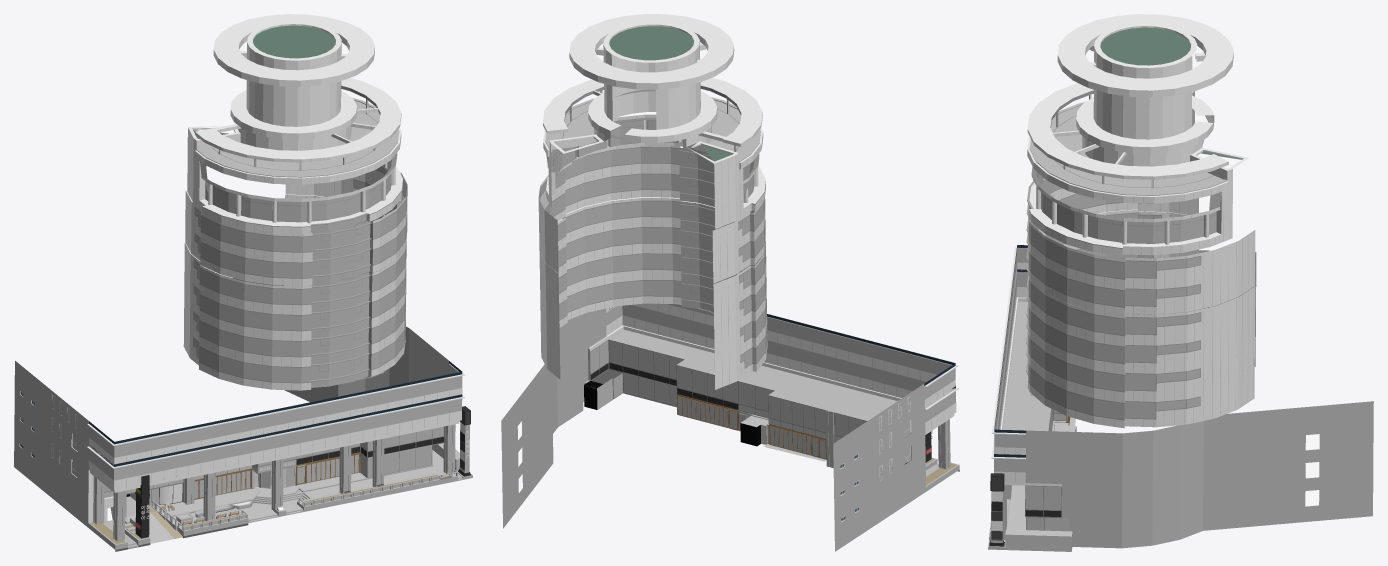
The model's file is Low아쿠아펠리스.fbx.
3 renders of one model, left to right at view 1: azimuth 30°, elevation 25°; view 2: azimuth 150°, elevation 25°; view 3: azimuth 270°, elevation 25°, orthographic. The views are drawn at different scales.
Parts seen in each view (by area): view 1: Group_71818, Group_72256, 단층_아쿠아_1, Group_72300, Group_71693, Group_72294, 단층_아쿠아_2_2, 단층_아쿠아_2_1, 단층_아쿠아_2_5, 단층_아쿠아_2_7, 단층_아쿠아_2, 단층_아쿠아_2_6 (+32 smaller); view 2: Group_71818, Group_72256, 단층_아쿠아_1, Group_71693, Group_72300, 단층_아쿠아_2_2, 단층_아쿠아_2_1, Group_72294, 단층_아쿠아_2_5, 단층_아쿠아_2_7, 단층_아쿠아_2_6, 단층_아쿠아_2 (+19 smaller); view 3: Group_71818, Group_72256, 단층_아쿠아_1, Group_72300, 단층_아쿠아_2_2, Group_72294, 단층_아쿠아_2_5, 단층_아쿠아_2_6, 단층_아쿠아_2, 단층_아쿠아_2_1, 단층_아쿠아_2_7, Group_71693 (+23 smaller).
Part boxes in pixels (bbox=[...]): Group_71818: bbox=[14, 349, 472, 551]; Group_72256: bbox=[187, 21, 402, 234]; 단층_아쿠아_1: bbox=[14, 278, 464, 466]; Group_72300: bbox=[213, 14, 374, 86]; Group_71693: bbox=[104, 426, 443, 506]; Group_72294: bbox=[195, 78, 401, 162]; 단층_아쿠아_2_2: bbox=[185, 177, 401, 285]; 단층_아쿠아_2_1: bbox=[185, 166, 401, 259]; 단층_아쿠아_2_5: bbox=[184, 195, 384, 312]; 단층_아쿠아_2_7: bbox=[184, 271, 379, 364]; 단층_아쿠아_2: bbox=[183, 279, 378, 390]; 단층_아쿠아_2_6: bbox=[184, 232, 379, 338]; Group_71818: bbox=[501, 305, 959, 551]; Group_72256: bbox=[543, 22, 765, 228]; 단층_아쿠아_1: bbox=[501, 303, 958, 468]; Group_71693: bbox=[584, 339, 911, 461]; Group_72300: bbox=[569, 14, 734, 89]; 단층_아쿠아_2_2: bbox=[539, 171, 754, 283]; 단층_아쿠아_2_1: bbox=[538, 145, 754, 256]; Group_72294: bbox=[543, 78, 762, 146]; 단층_아쿠아_2_5: bbox=[539, 198, 755, 310]; 단층_아쿠아_2_7: bbox=[540, 251, 756, 363]; 단층_아쿠아_2_6: bbox=[540, 224, 755, 336]; 단층_아쿠아_2: bbox=[540, 277, 756, 389]; Group_71818: bbox=[988, 269, 1373, 551]; Group_72256: bbox=[1027, 23, 1248, 256]; 단층_아쿠아_1: bbox=[991, 245, 1373, 461]; Group_72300: bbox=[1057, 14, 1233, 97]; 단층_아쿠아_2_2: bbox=[1026, 198, 1254, 315]; Group_72294: bbox=[1027, 83, 1228, 179]; 단층_아쿠아_2_5: bbox=[1026, 211, 1255, 343]; 단층_아쿠아_2_6: bbox=[1026, 249, 1254, 371]; 단층_아쿠아_2: bbox=[1026, 309, 1254, 427]; 단층_아쿠아_2_1: bbox=[1026, 203, 1255, 286]; 단층_아쿠아_2_7: bbox=[1026, 317, 1254, 399]; Group_71693: bbox=[1025, 408, 1066, 530].
Bounding box in the file's own units: 2235 × 2501 × 1947.
